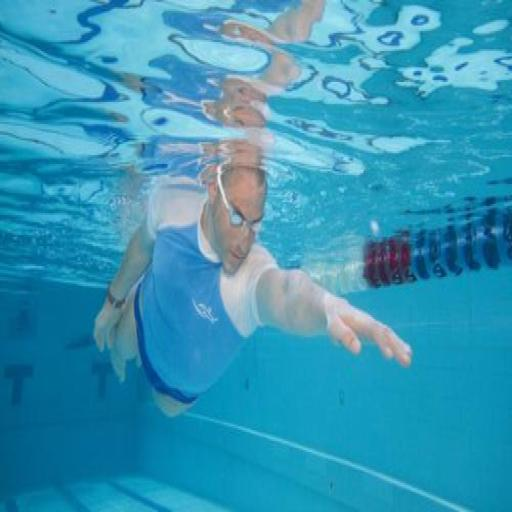swimming: (90, 142, 414, 421)
